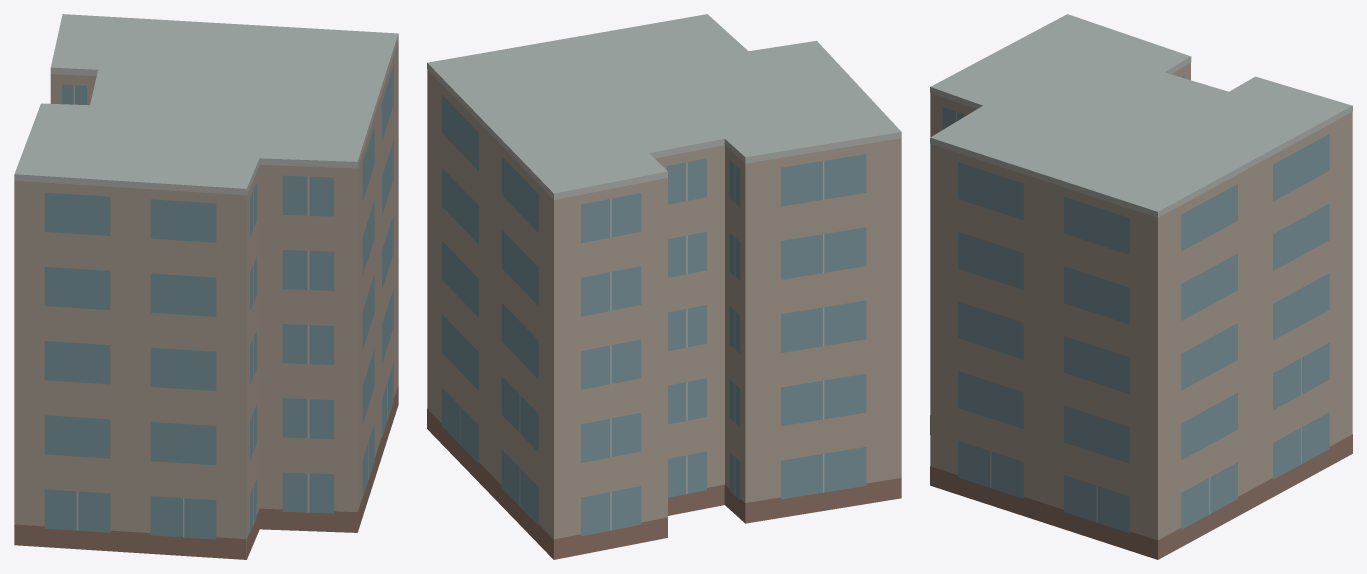
Rendered from survey-upis-32855232.glb.
3 renders of one model, left to right at view 1: azimuth 30°, elevation 25°; view 2: azimuth 150°, elevation 25°; view 3: azimuth 270°, elevation 25°, orthographic. The views are drawn at different scales.
Parts seen in each view (by area): view 1: survey-upis-32855232.tmp; view 2: survey-upis-32855232.tmp; view 3: survey-upis-32855232.tmp.
Boxes of the visible parts, <box> form: survey-upis-32855232.tmp: <box>14,14,398,559</box>; survey-upis-32855232.tmp: <box>427,14,901,559</box>; survey-upis-32855232.tmp: <box>930,14,1352,559</box>.
Size of the model in its own units: 17.15 by 14.05 by 15.47.
